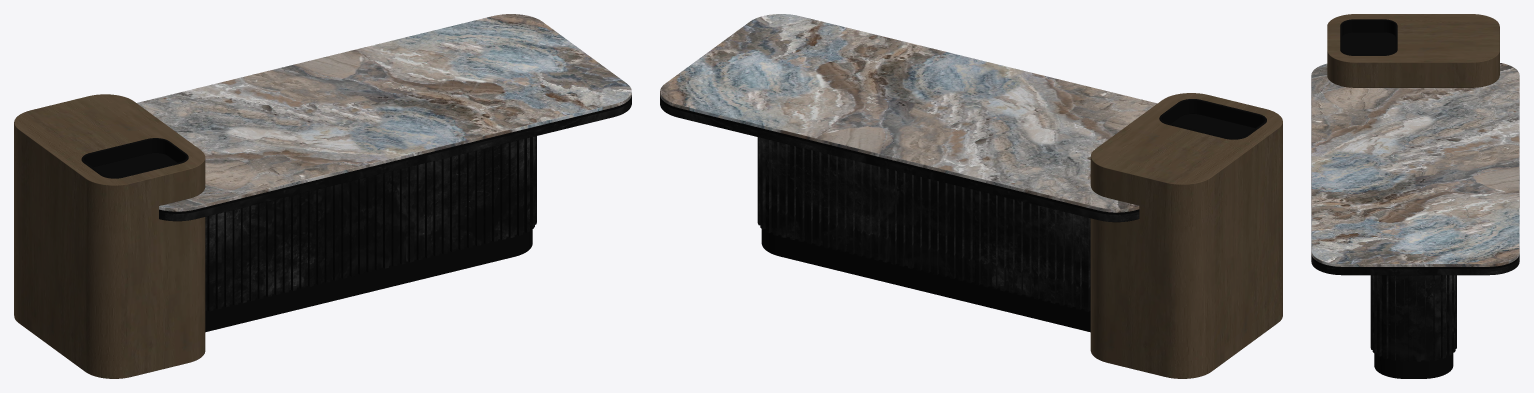
File: diningModernRect.glb
3 views of the same model, side by side, from view 1: azimuth 30°, elevation 25°; view 2: azimuth 150°, elevation 25°; view 3: azimuth 270°, elevation 25° (orthographic). The views are drawn at different scales.
Visible parts, largest first — view 1: Table Top, Side Table, Fluted Design, Table Stand Support; view 2: Table Top, Side Table, Fluted Design, Table Stand Support; view 3: Table Top, Side Table, Fluted Design, Table Stand Support.
Part boxes in pixels (x1,y1,x2,y2): Table Top: (137, 14, 631, 221); Side Table: (14, 94, 205, 378); Fluted Design: (205, 136, 536, 311); Table Stand Support: (205, 228, 532, 332); Table Top: (660, 14, 1157, 222); Side Table: (1090, 93, 1282, 378); Fluted Design: (757, 137, 1090, 311); Table Stand Support: (761, 229, 1090, 332); Table Top: (1311, 63, 1519, 275); Side Table: (1327, 14, 1499, 87); Fluted Design: (1370, 275, 1456, 361); Table Stand Support: (1374, 352, 1453, 378).
Bounding box in the file's own units: 2.55 × 0.8896 × 1.
6 materials, 6 textured.
